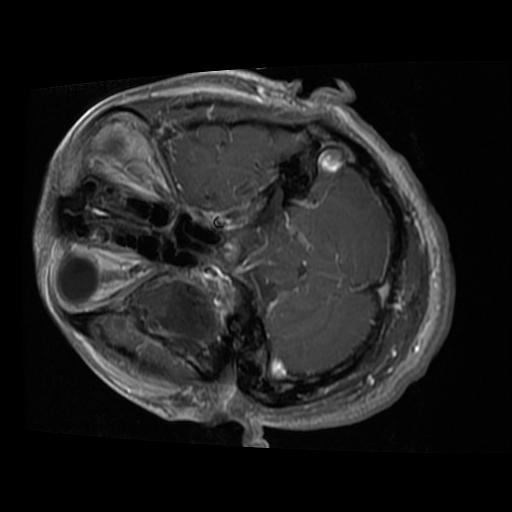glioma: (132, 282, 214, 360)
